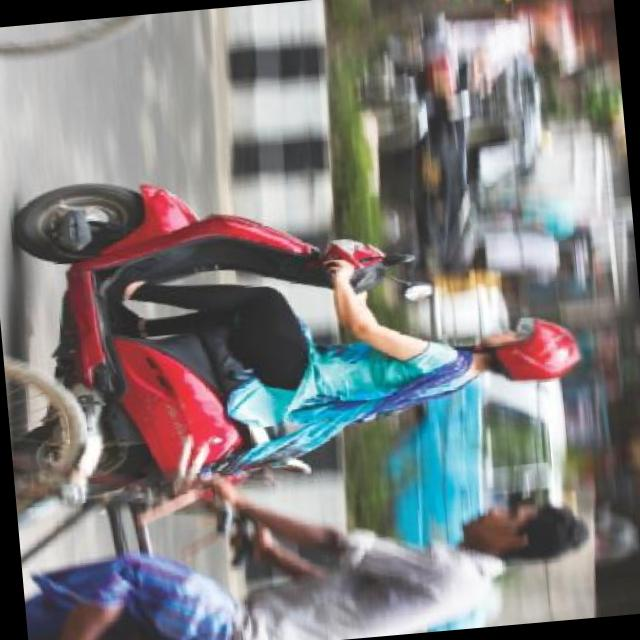With Helmet: (472, 312, 595, 387)
